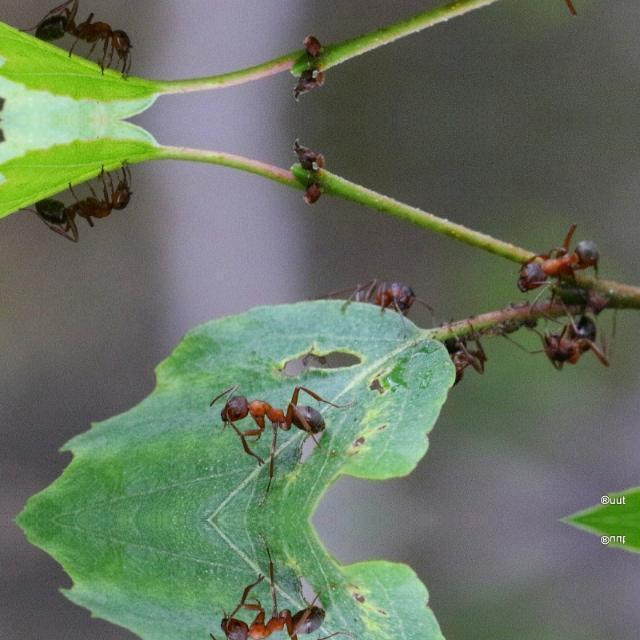Formica: (197, 370, 356, 470), (18, 146, 156, 246), (18, 0, 154, 92), (196, 568, 354, 640), (498, 222, 606, 294), (528, 298, 626, 374), (329, 260, 428, 324), (496, 0, 604, 14)
